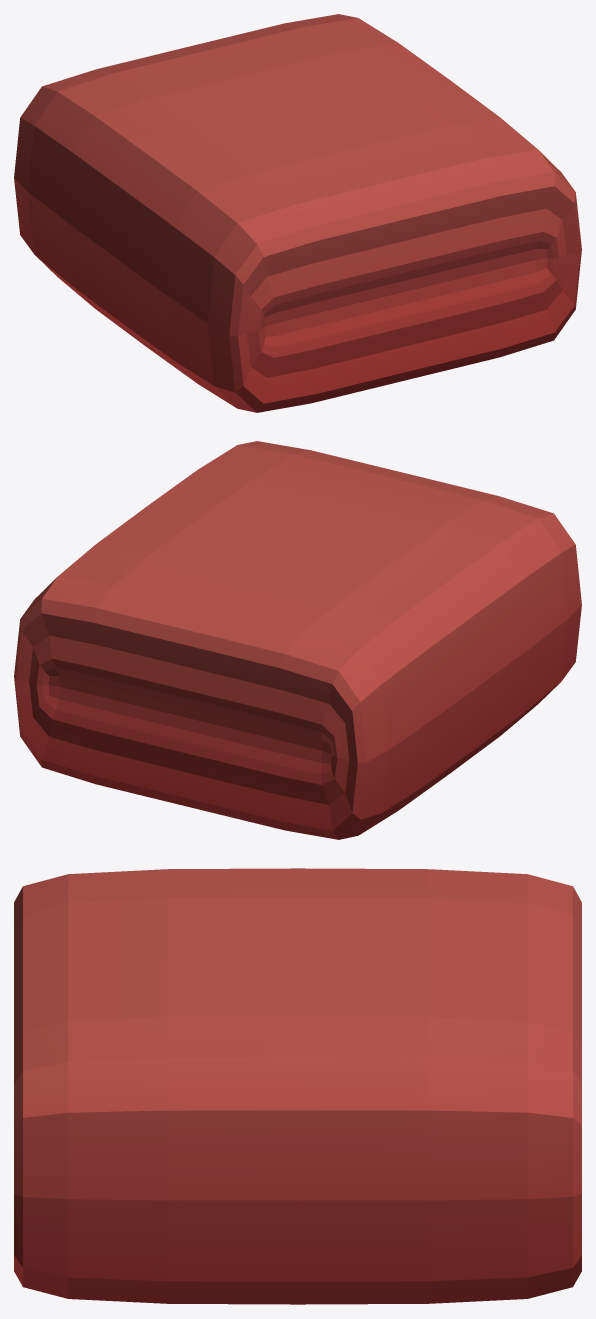
File: Clothes4_C2.fbx
The picture shows the model from 3 angles, top to bottom: view 1: azimuth 30°, elevation 25°; view 2: azimuth 150°, elevation 25°; view 3: azimuth 270°, elevation 25°; orthographic projection. The views are drawn at different scales.
Visible parts, largest first — view 1: Clothes4_C2; view 2: Clothes4_C2; view 3: Clothes4_C2.
Part boxes in pixels (x1,y1,x2,y2): Clothes4_C2: [14, 14, 581, 412]; Clothes4_C2: [14, 441, 581, 839]; Clothes4_C2: [14, 868, 581, 1304].
Size of the model in its own units: 22.53 by 11.96 by 23.8.
